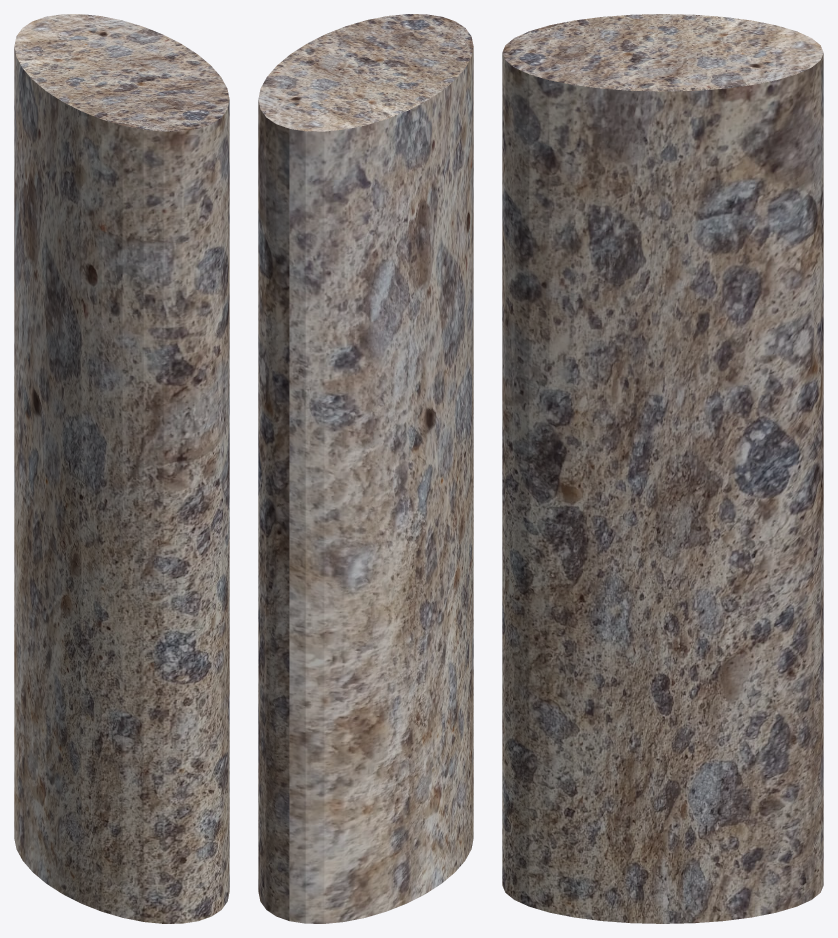
File: columna_ovalo.obj
3 views of the same model, side by side, from view 1: azimuth 30°, elevation 25°; view 2: azimuth 150°, elevation 25°; view 3: azimuth 270°, elevation 25° (orthographic). The views are drawn at different scales.
Visible parts, largest first — view 1: Cylinder; view 2: Cylinder; view 3: Cylinder.
Boxes of the visible parts, x1,y1,x2,y2 form: Cylinder: (14, 14, 229, 923); Cylinder: (258, 14, 473, 923); Cylinder: (502, 14, 823, 923).
Bounding box in the file's own units: 2 × 10 × 3.5.
1 material, 1 textured.
